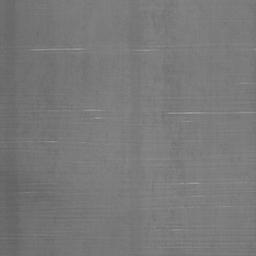Waist folding: (155, 110, 256, 116), (133, 44, 192, 53), (30, 46, 84, 55), (41, 139, 107, 146), (181, 204, 256, 209), (145, 226, 196, 233), (48, 108, 103, 113), (167, 180, 200, 186), (18, 190, 51, 195), (239, 81, 256, 86)
